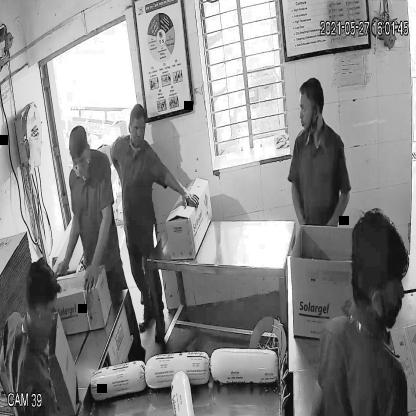no_goggles: (296, 98, 320, 120)
